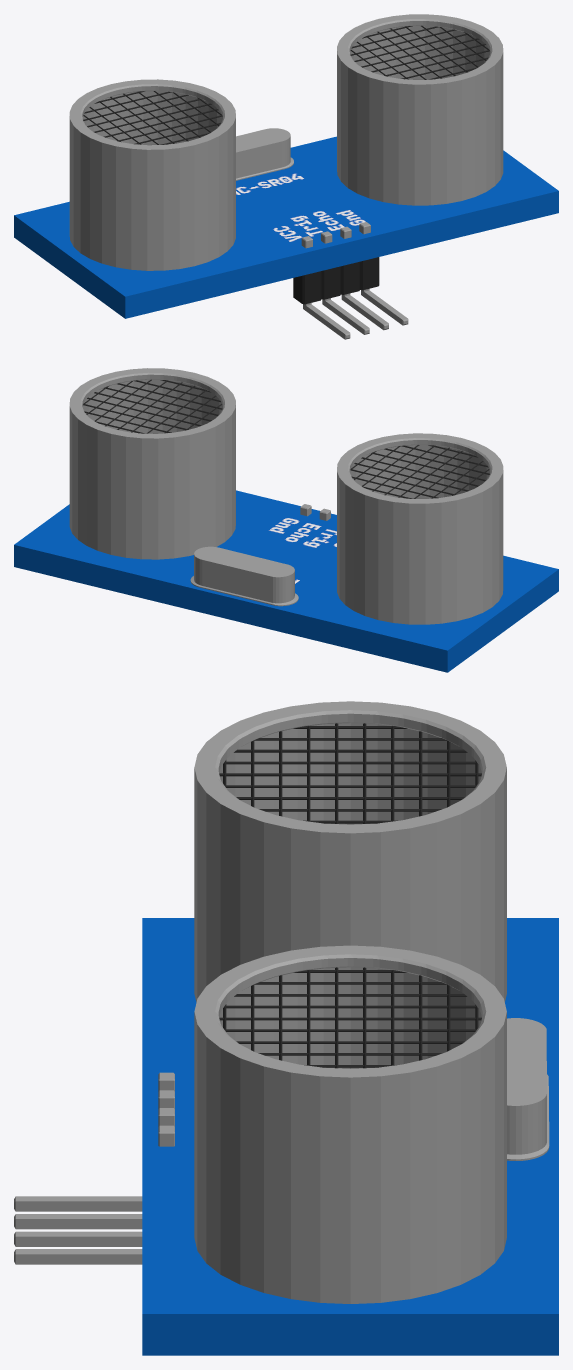
The model's file is HCSR04.fbx.
3 renders of one model, top to bottom at view 1: azimuth 30°, elevation 25°; view 2: azimuth 150°, elevation 25°; view 3: azimuth 270°, elevation 25°, orthographic. The views are drawn at different scales.
Parts seen in each view (by area): view 1: SonicER, BaseUltrasonicSensor, Pinout, SonicProtectors, Oscilator; view 2: SonicER, BaseUltrasonicSensor, SonicProtectors, Oscilator; view 3: SonicER, BaseUltrasonicSensor, SonicProtectors, Pinout, Oscilator.
Part boxes in pixels (box(x1,y1,x2,y2)): SonicER: box(69, 14, 503, 270); BaseUltrasonicSensor: box(14, 136, 558, 318); Pinout: box(293, 222, 408, 339); SonicProtectors: box(83, 25, 489, 144); Oscilator: box(236, 128, 293, 180); SonicER: box(69, 368, 503, 624); BaseUltrasonicSensor: box(14, 490, 558, 672); SonicProtectors: box(83, 379, 489, 498); Oscilator: box(190, 546, 298, 606); SonicER: box(194, 701, 506, 1303); BaseUltrasonicSensor: box(142, 918, 558, 1355); SonicProtectors: box(219, 723, 481, 1068); Pinout: box(14, 1072, 174, 1264); Oscilator: box(507, 1018, 549, 1160).
Size of the model in its own units: 4.5 by 1.83 by 2.62.
